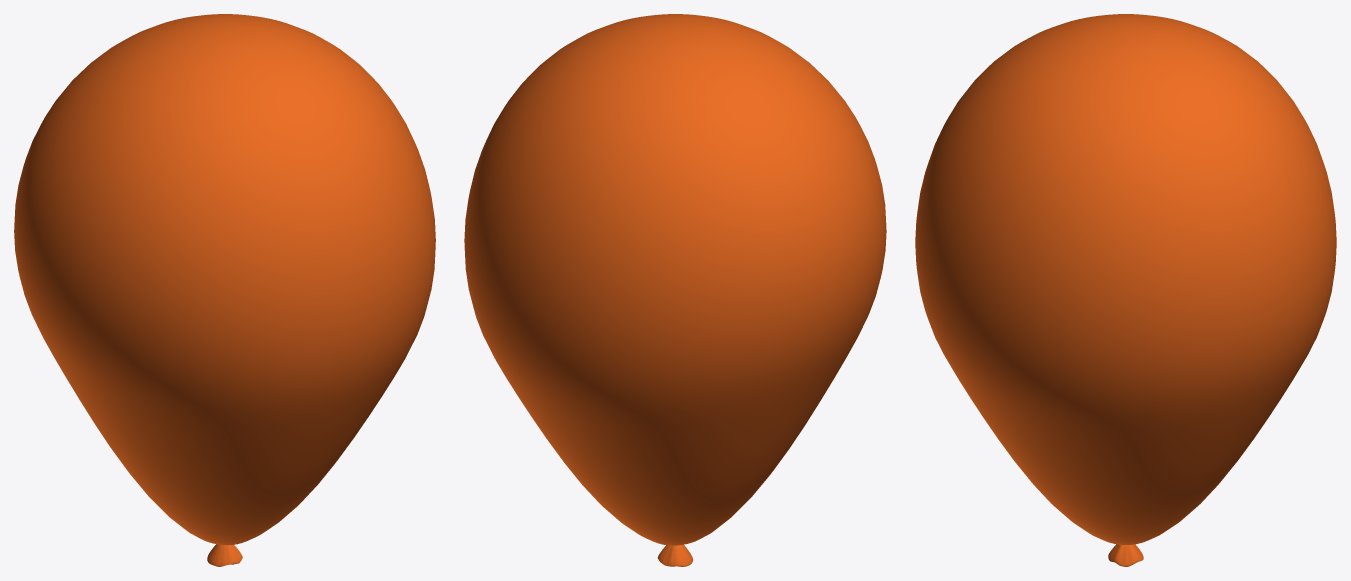
Rendered from BalloonOhneSchnur_orange.fbx.
The picture shows the model from 3 angles, left to right: view 1: azimuth 30°, elevation 25°; view 2: azimuth 150°, elevation 25°; view 3: azimuth 270°, elevation 25°; orthographic projection.
Visible parts, largest first — view 1: Sphere, Cone; view 2: Sphere, Cone; view 3: Sphere, Cone.
Part boxes in pixels (x1,y1,x2,y2): Sphere: (14, 14, 435, 545); Cone: (207, 544, 242, 566); Sphere: (464, 14, 886, 545); Cone: (657, 544, 693, 566); Sphere: (915, 14, 1336, 544); Cone: (1108, 544, 1143, 566).
Bounding box in the file's own units: 197 × 272 × 197.
